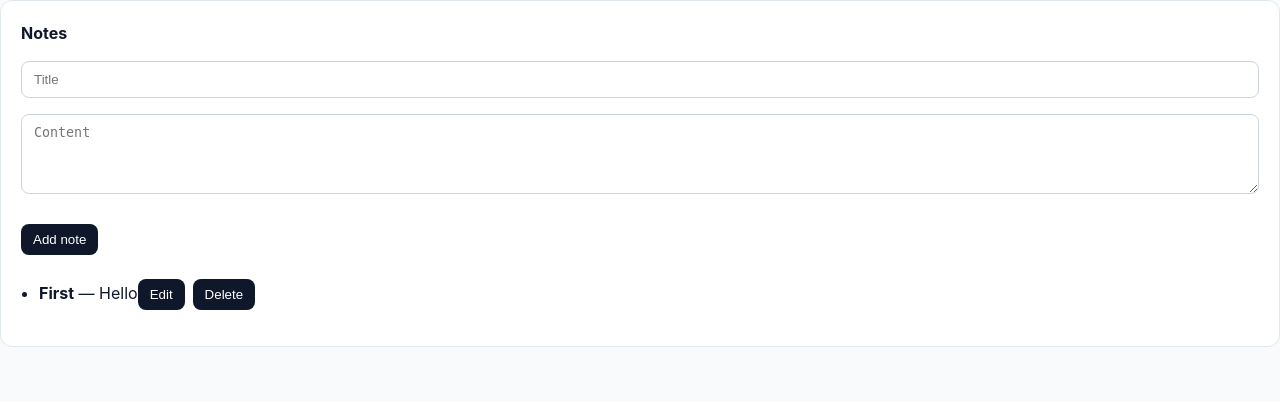
Test: Notes › requires a title before create
Check: the text "First" is shown, box x1=39 y1=283 x2=74 y2=303
Click the button "Add note": (60, 240) x1=21 y1=224 x2=98 y2=255
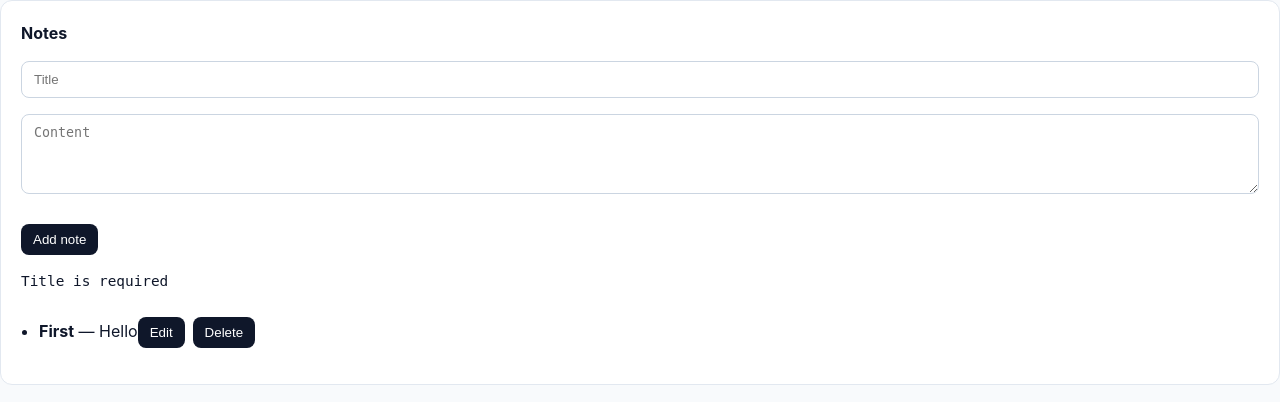
Check: the text "Title is required" is shown, box x1=21 y1=273 x2=168 y2=289
